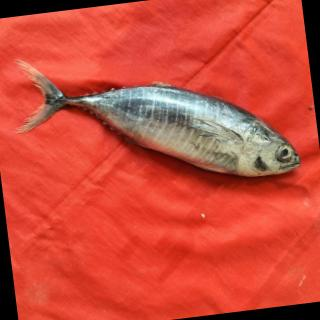Ikan: (1, 21, 311, 220)
